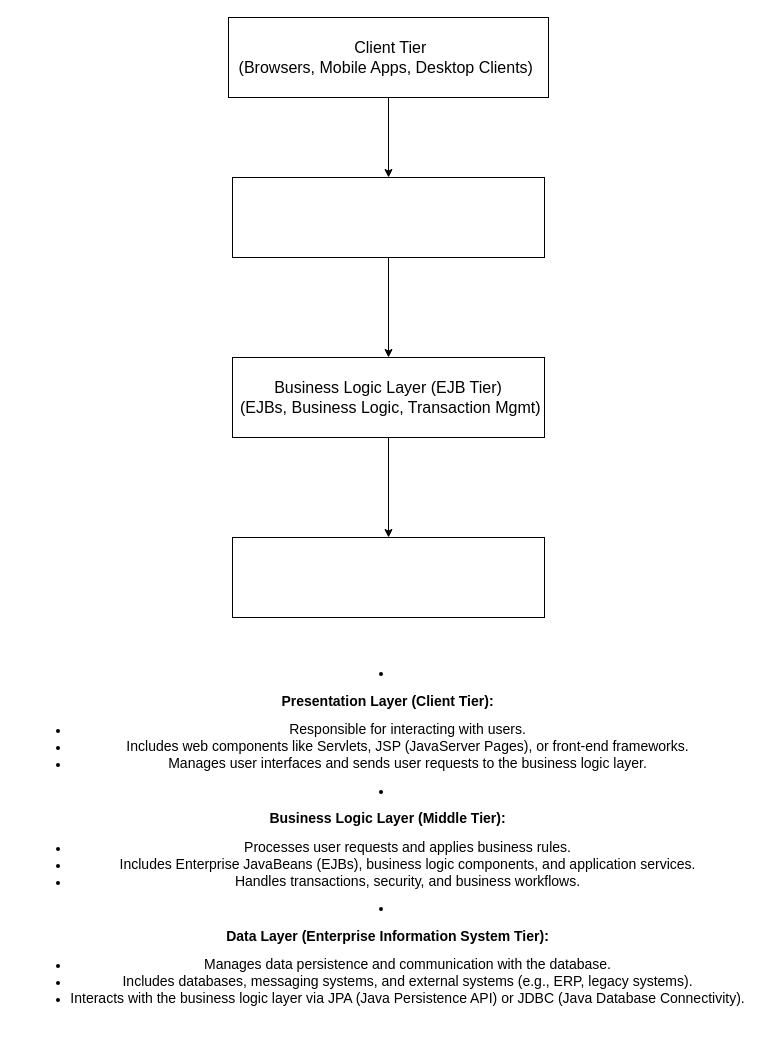
Image size: 774x1045. Some labels were removed from this diagram. The shapes that lost their labels are listed below. From the top down, each one's centre as x and y in pixels, then its label:
point (388, 217): Presentation Layer (Web Tier) (JSP, Servlets, HTML, Front - end Code)
point (388, 577): Data Layer (Database Tier) (Databases, JPA, JDBC, External Systems)
